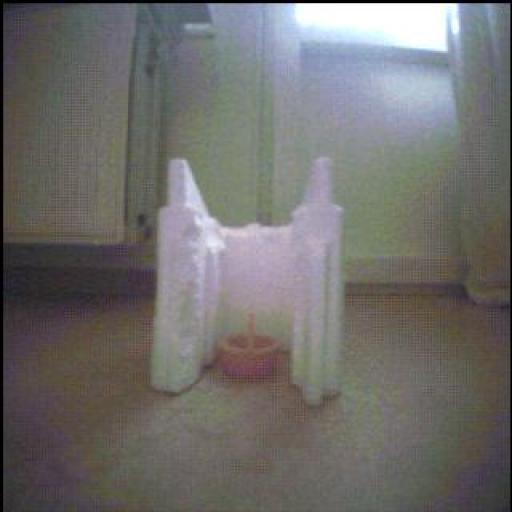Basket: (220, 316, 281, 380)
